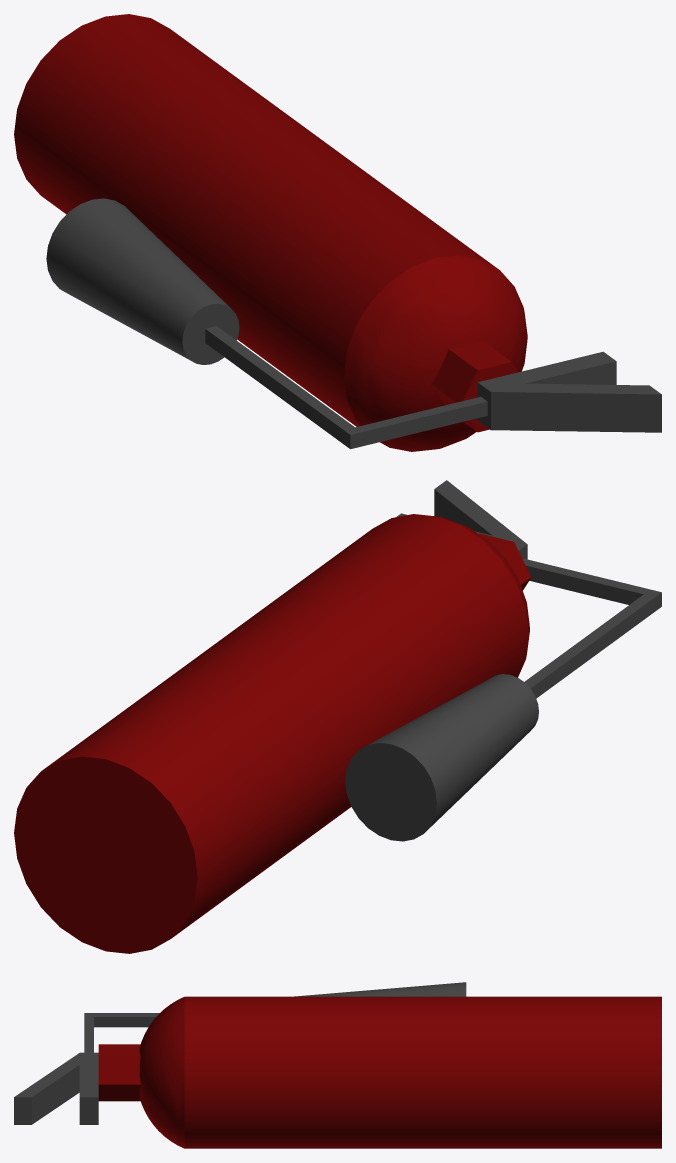
Rendered from fire_extinguisher.dae.
3 renders of one model, top to bottom at view 1: azimuth 30°, elevation 25°; view 2: azimuth 150°, elevation 25°; view 3: azimuth 270°, elevation 25°, orthographic. The views are drawn at different scales.
Visible parts, largest first — view 1: coords_ME_ID3_MA___auto_3, coords_ME_ID25_MA___auto_, coords_ME_ID11_MA___auto_, coords_ME_ID19_MA___auto_; view 2: coords_ME_ID3_MA___auto_3, coords_ME_ID25_MA___auto_, coords_ME_ID19_MA___auto_, coords_ME_ID11_MA___auto_; view 3: coords_ME_ID3_MA___auto_3, coords_ME_ID11_MA___auto_, coords_ME_ID25_MA___auto_, coords_ME_ID19_MA___auto_.
Part boxes in pixels (x1,y1,x2,y2): coords_ME_ID3_MA___auto_3: [14, 14, 527, 451]; coords_ME_ID25_MA___auto_: [46, 198, 239, 364]; coords_ME_ID11_MA___auto_: [477, 351, 661, 432]; coords_ME_ID19_MA___auto_: [205, 326, 487, 449]; coords_ME_ID3_MA___auto_3: [14, 514, 531, 953]; coords_ME_ID25_MA___auto_: [345, 674, 538, 841]; coords_ME_ID19_MA___auto_: [523, 558, 661, 698]; coords_ME_ID11_MA___auto_: [396, 480, 527, 559]; coords_ME_ID3_MA___auto_3: [98, 996, 661, 1148]; coords_ME_ID11_MA___auto_: [14, 1052, 98, 1124]; coords_ME_ID25_MA___auto_: [294, 982, 466, 996]; coords_ME_ID19_MA___auto_: [84, 1013, 159, 1052].
Size of the model in its own units: 3.31 by 2 by 8.48.
